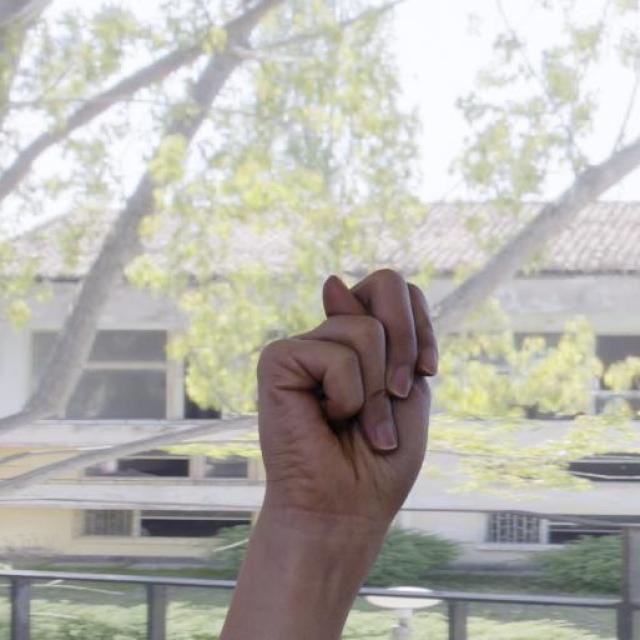N: (254, 263, 441, 509)
